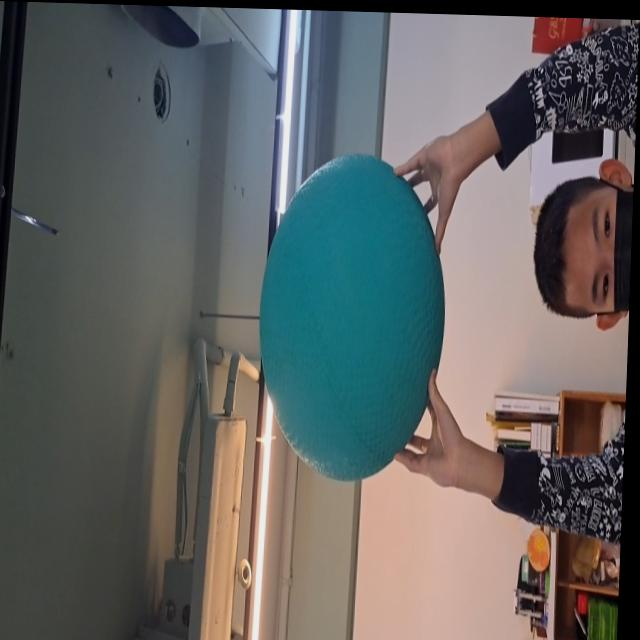ALGAE: (253, 152, 451, 481)
